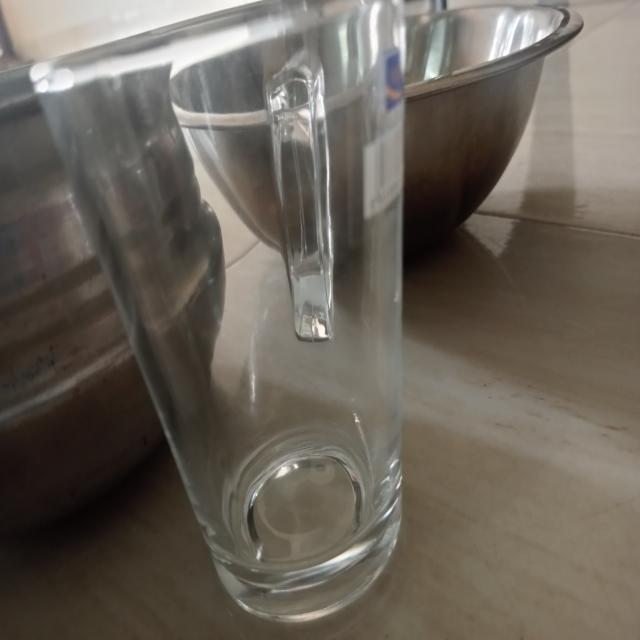glass-VX4N: (28, 0, 406, 629)
